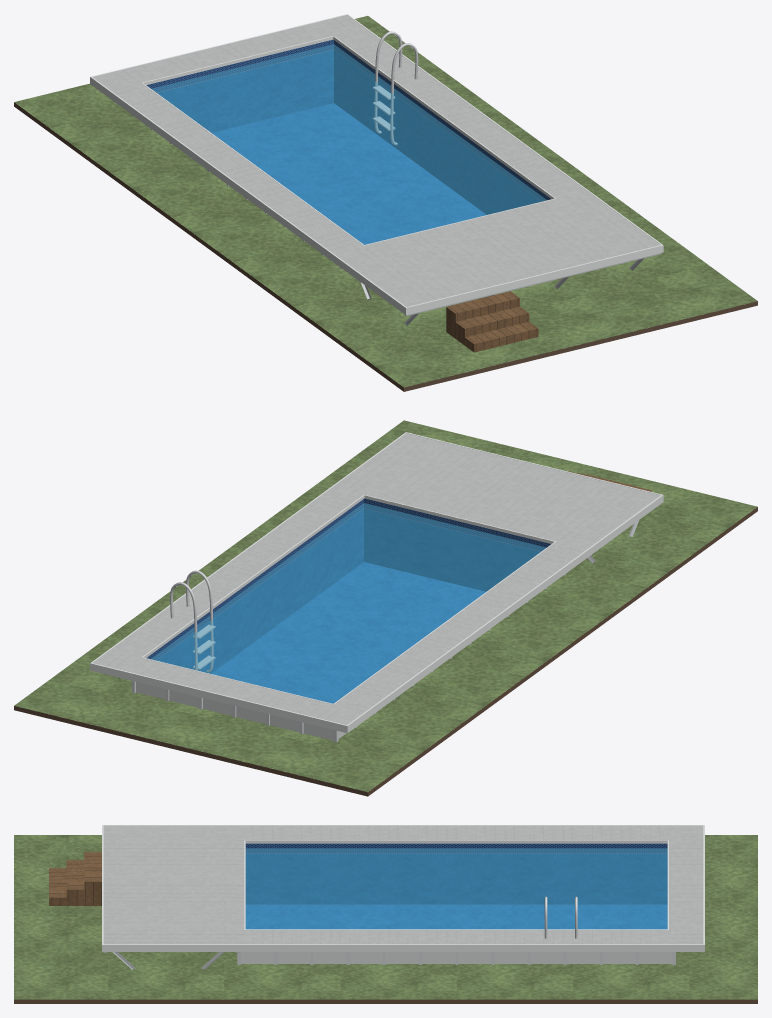
Rendered from kayak-pool-12x24-white-end-rec-nofence.dd648d2f5c.glb.
3 views of the same model, one above another, from view 1: azimuth 30°, elevation 25°; view 2: azimuth 150°, elevation 25°; view 3: azimuth 270°, elevation 25° (orthographic). The views are drawn at different scales.
Parts seen in each view (by area): view 1: ground, water, deck, liner_wall, liner_floor, fascia, steps, soil, steel, stud; view 2: ground, water, deck, liner_wall, liner_floor, fascia, soil, wall, steel; view 3: ground, water, deck, liner_wall, liner_floor, fascia, wall, soil, steps, upright.
Part boxes in pixels (x1,y1,x2,y2): ground: (14, 16, 757, 387); water: (151, 44, 546, 244); deck: (92, 15, 660, 306); liner_wall: (146, 39, 550, 214); liner_floor: (212, 103, 486, 244); fascia: (90, 14, 663, 315); steps: (446, 291, 538, 352); soil: (14, 102, 757, 391); steel: (372, 31, 418, 145); stud: (335, 253, 661, 325); ground: (14, 420, 757, 791); water: (151, 503, 546, 703); deck: (93, 433, 660, 724); liner_wall: (146, 498, 551, 673); liner_floor: (211, 562, 485, 703); fascia: (90, 432, 663, 733); soil: (14, 507, 757, 796); wall: (136, 682, 346, 740); steel: (170, 570, 215, 672); ground: (14, 835, 757, 999); water: (245, 848, 667, 929); deck: (103, 826, 703, 944); liner_wall: (245, 843, 667, 904); liner_floor: (245, 904, 667, 929); fascia: (102, 825, 704, 951); wall: (241, 952, 672, 963); soil: (14, 999, 757, 1003); steps: (49, 852, 101, 905); upright: (237, 952, 675, 964).
Size of the model in its own units: 6.71 by 1.9 by 12.79.
Materials: 12 (5 with a texture image).
